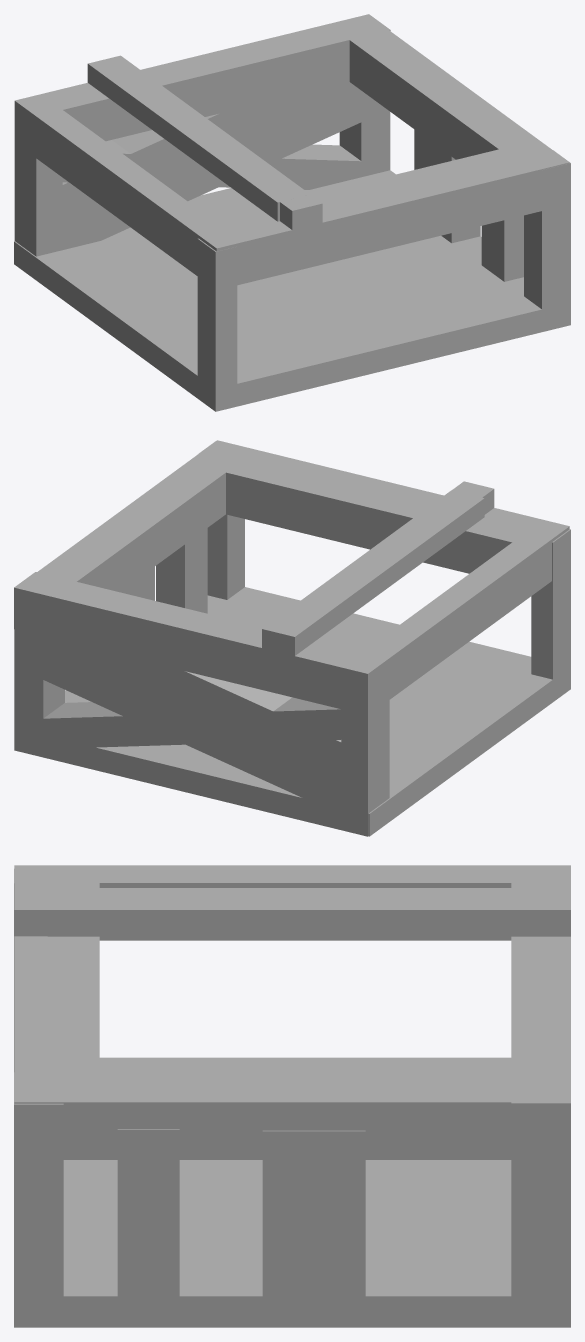
File: JumpDriveCharger_Small_Constr2.fbx
The picture shows the model from 3 angles, top to bottom: view 1: azimuth 30°, elevation 25°; view 2: azimuth 150°, elevation 25°; view 3: azimuth 270°, elevation 25°; orthographic projection. The views are drawn at different scales.
Parts seen in each view (by area): view 1: Cube.002; view 2: Cube.002; view 3: Cube.002.
Part boxes in pixels (<box>): Cube.002: <box>14,14,570,411</box>; Cube.002: <box>14,440,570,836</box>; Cube.002: <box>14,865,570,1327</box>.
Bounding box in the file's own units: 0.4985 × 0.2441 × 0.4911.
